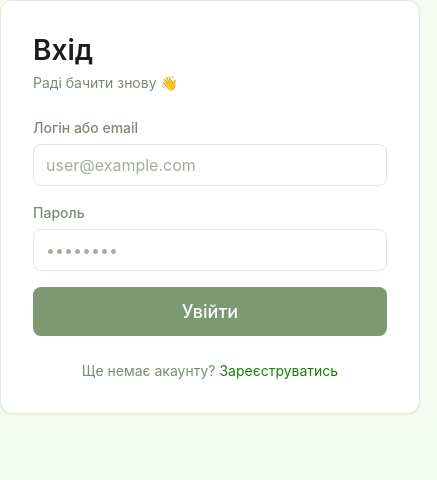
Test: LoginPage — інтеграція форми, Redux і API › показує помилки валідації і не звертається до API
Click the button "Увійти".
click(210, 312)  # box [33,287,387,336]
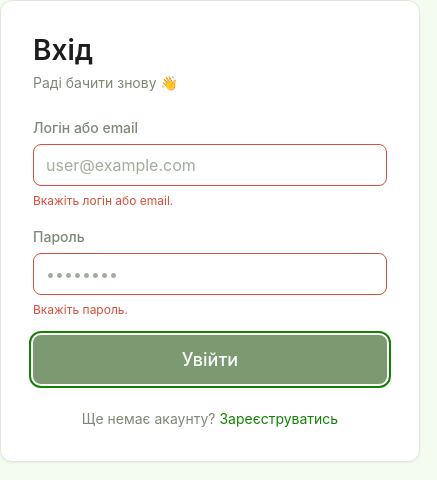
Now the text "Вкажіть логін або email." is shown, box [33,193,173,208]
Now the text "Вкажіть пароль." is shown, box [33,302,128,317]
